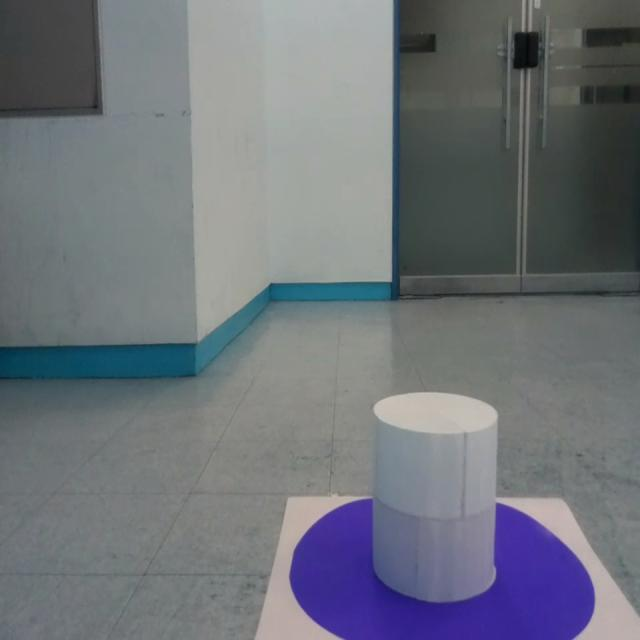cylinder: (370, 392, 499, 604)
